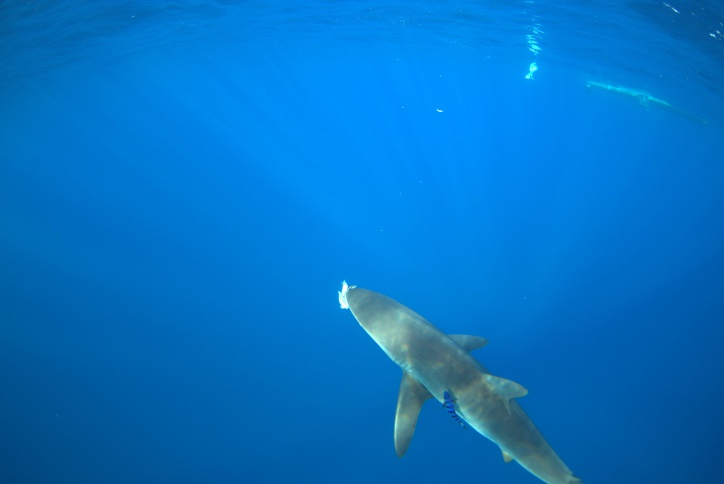Sedoso: (315, 267, 592, 484)
